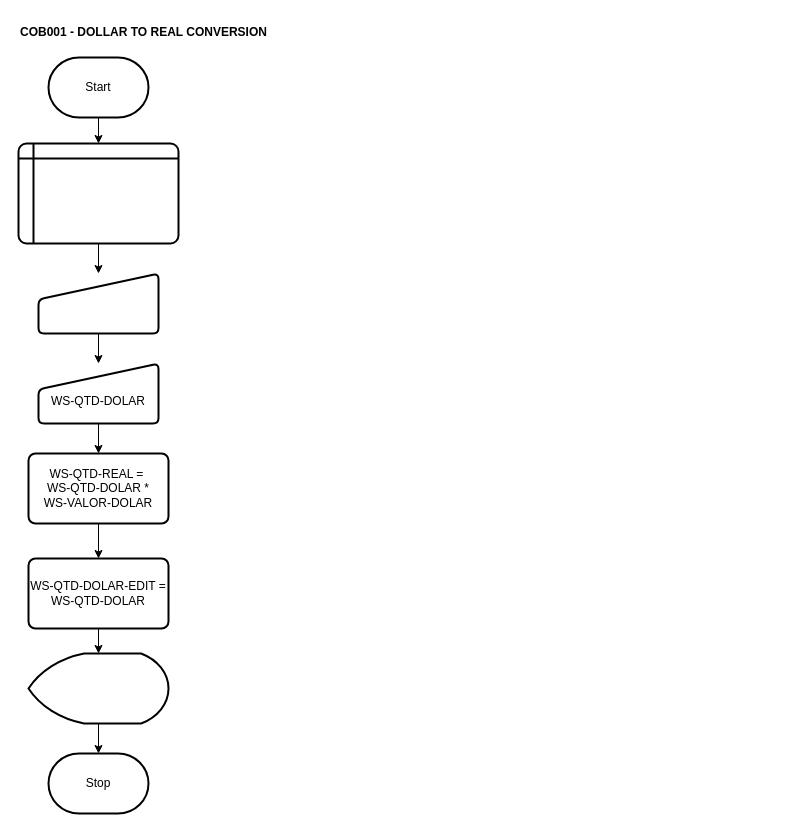
Image size: 795x831. Some labels were removed from this diagram. The shapes that lost their labels are listed below. From the top down, each one's centre as x and y in pixels, then its label:
the point at 98,193: WS-VALOR-DOLAR WS-QTD-DOLAR WS-QTD-REAL WS-QTD-DOLAR-EDIT WS-QTD-REAL-EDIT
the point at 98,303: WS-VALOR-DOLAR
the point at 98,688: WS-QTD-DOLAR-EDIT WS-QTD-REAL-EDIT
